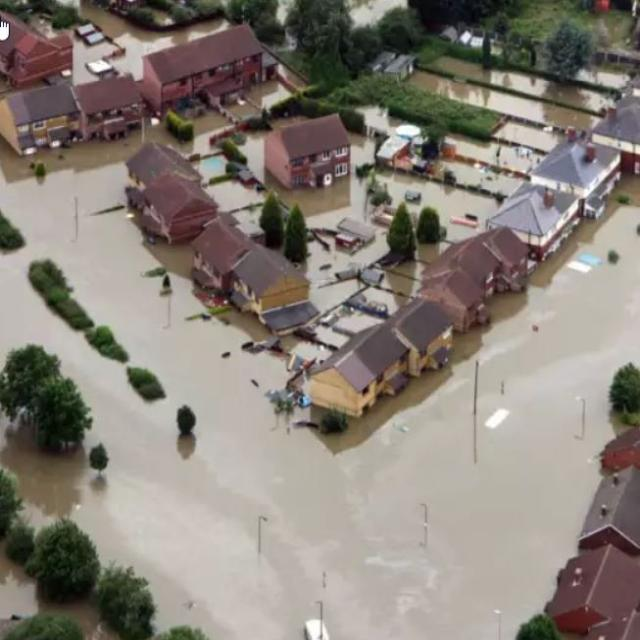flooded_areas: (7, 71, 632, 620)
